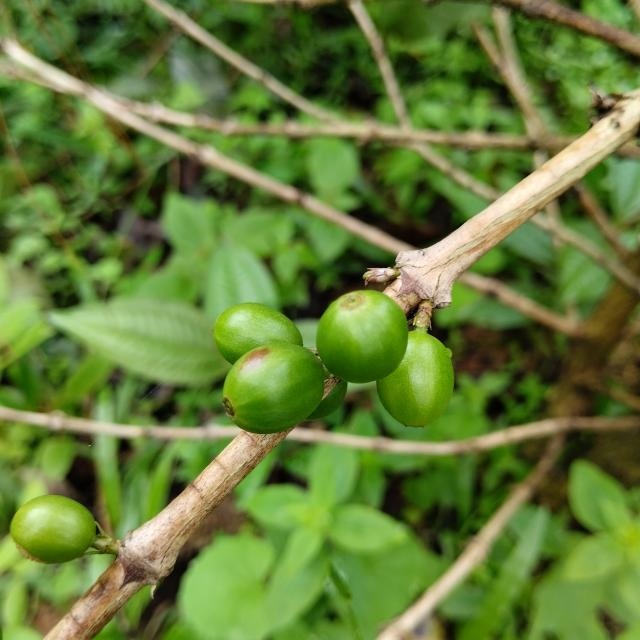green: (223, 343, 325, 434), (316, 290, 409, 383), (377, 330, 454, 427), (9, 496, 95, 564), (213, 302, 303, 364)
